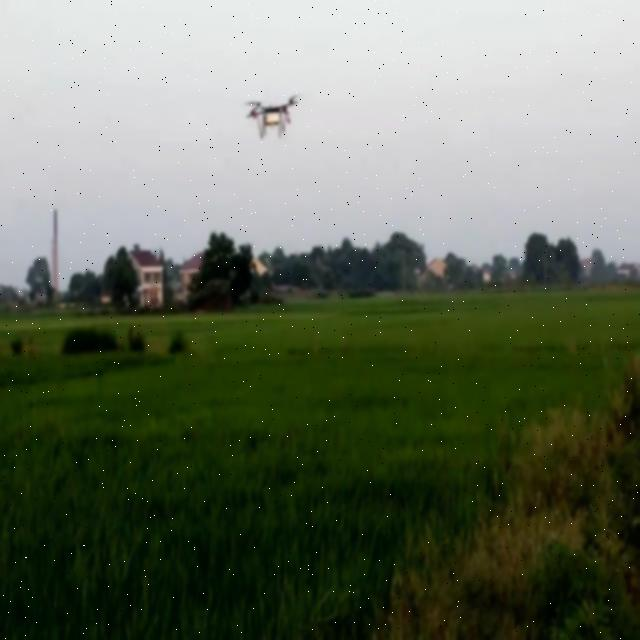UAV: (248, 95, 298, 139)
